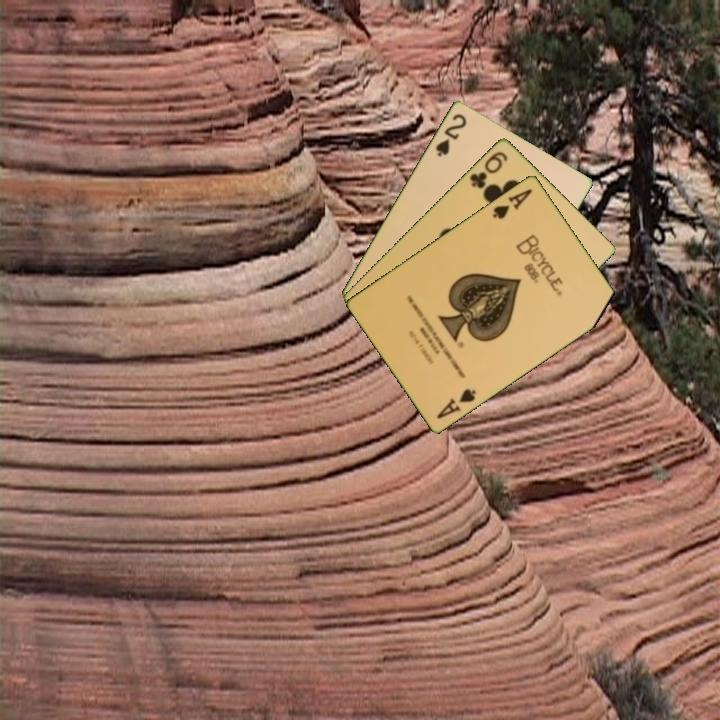2s: (432, 110, 470, 159)
6c: (466, 147, 510, 191)
As: (489, 185, 535, 222), (433, 385, 479, 422)
